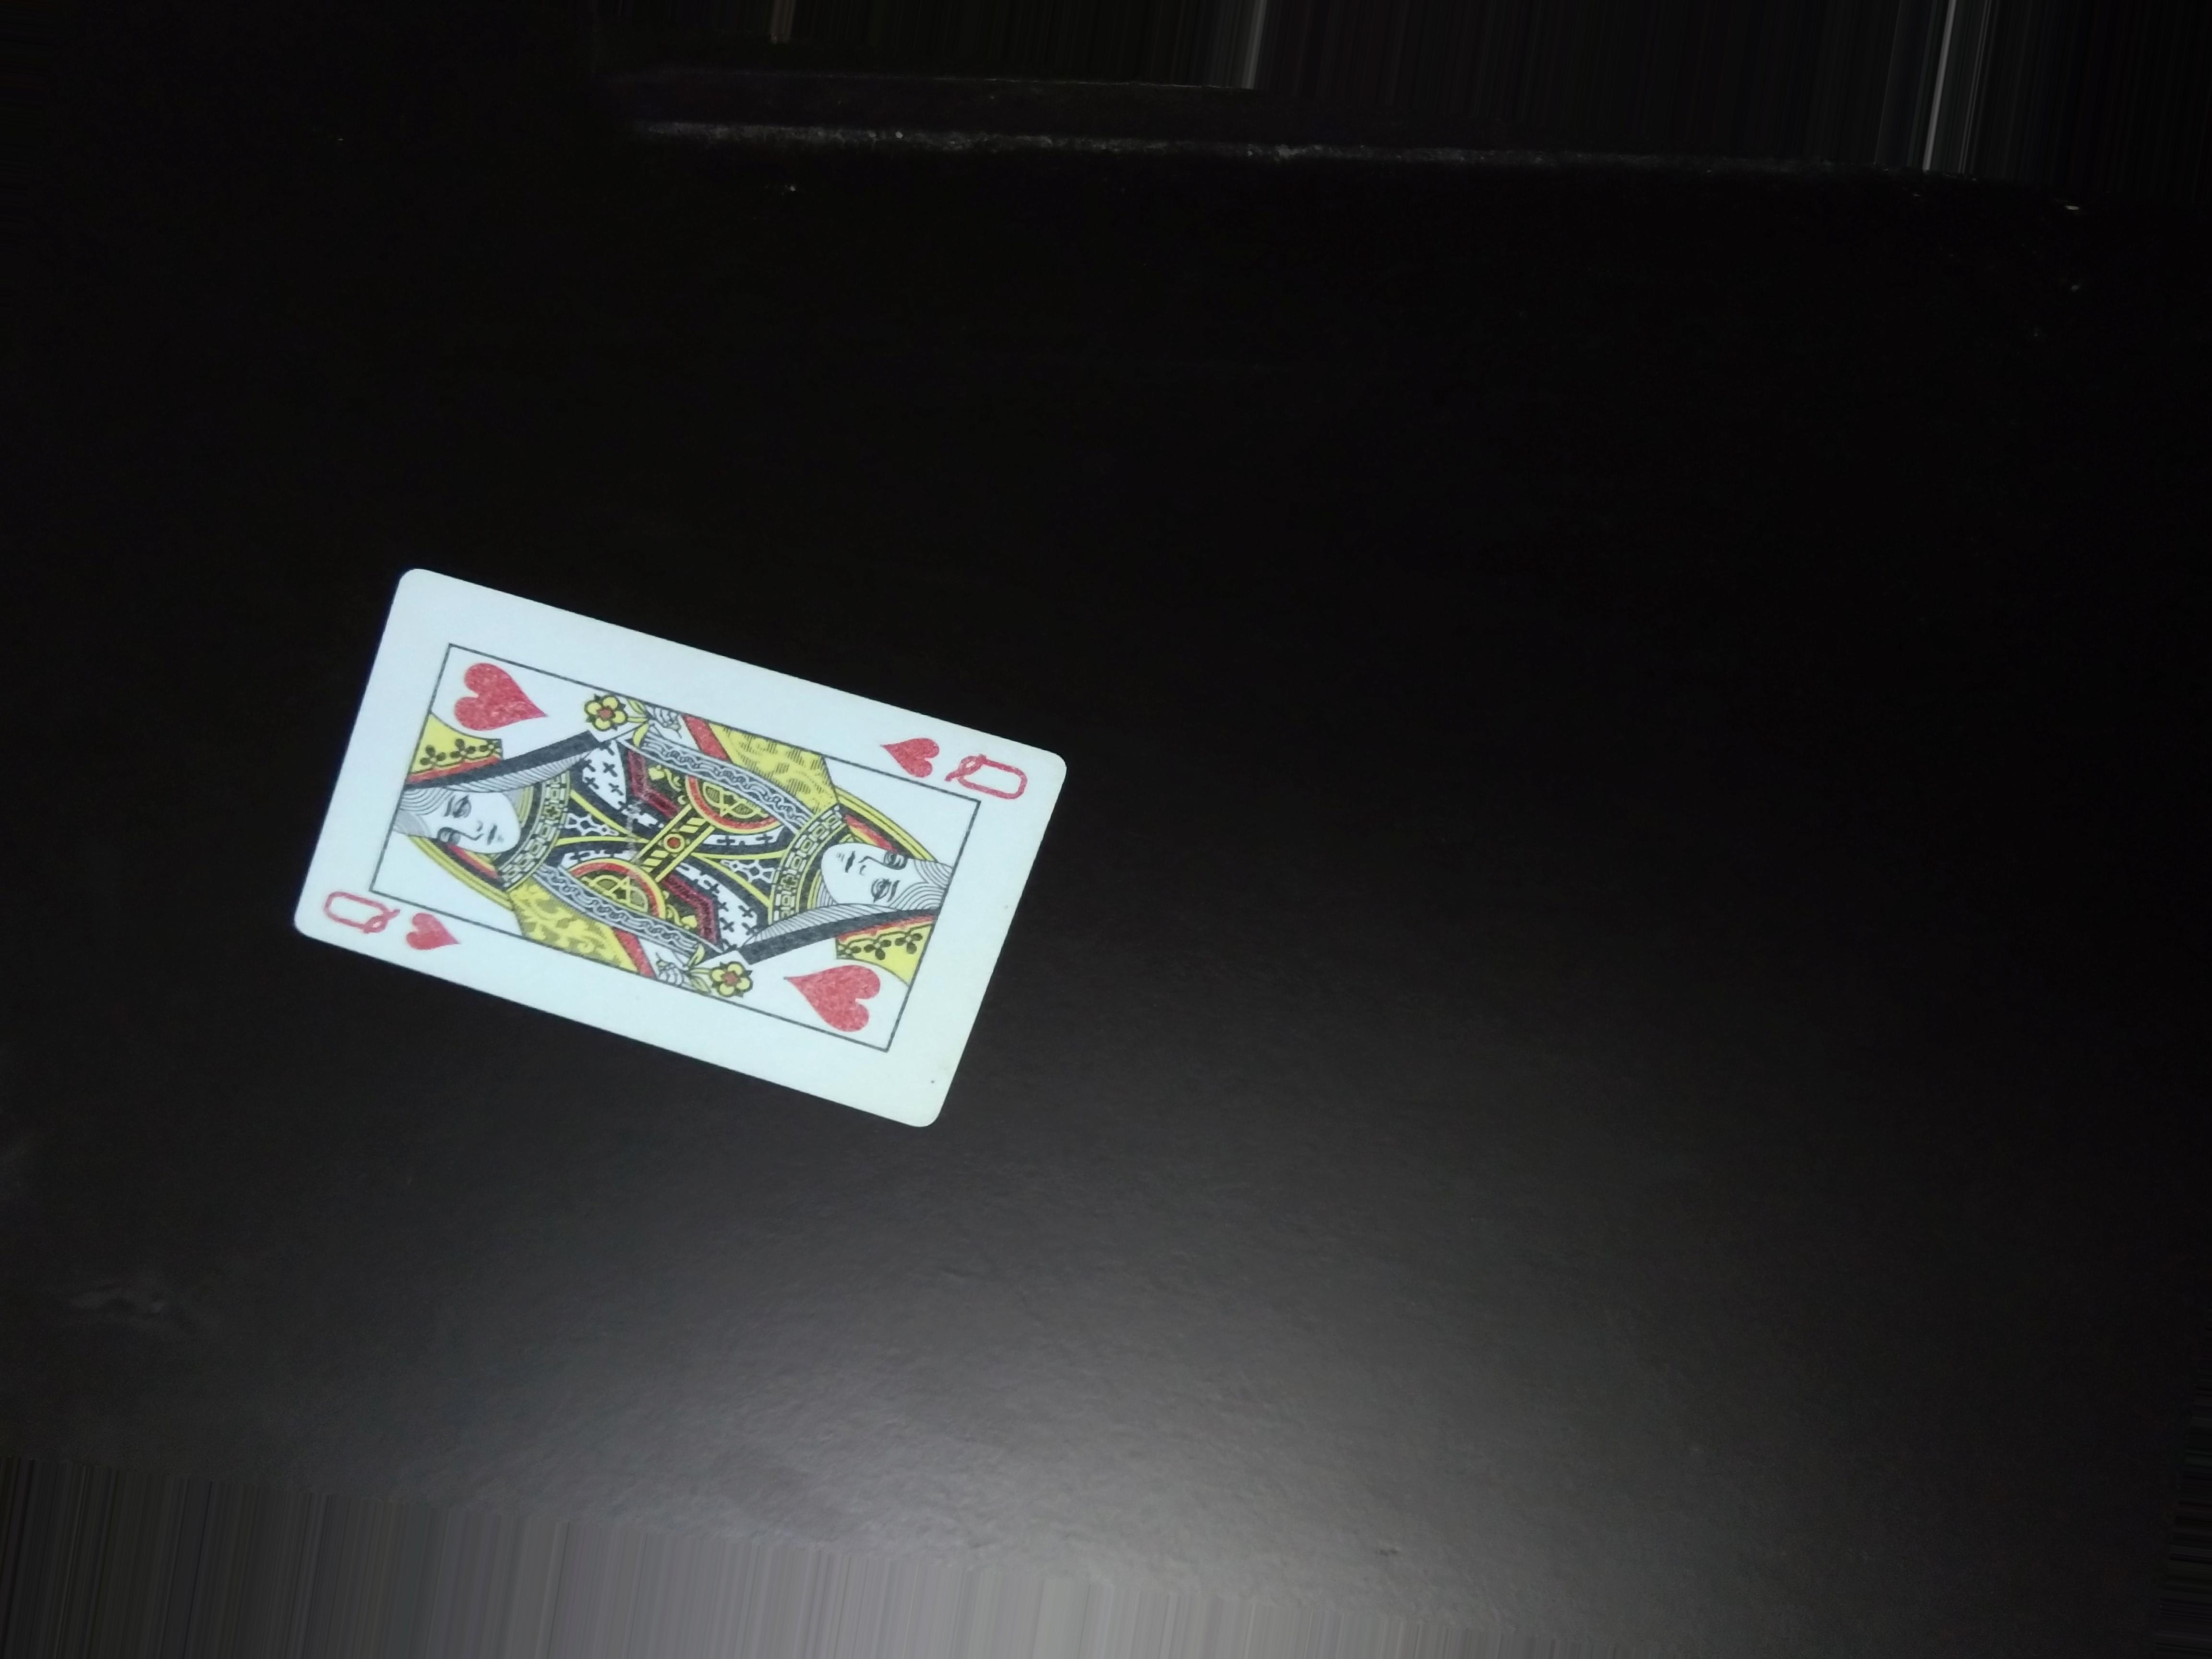QH: (880, 730, 1040, 812)
